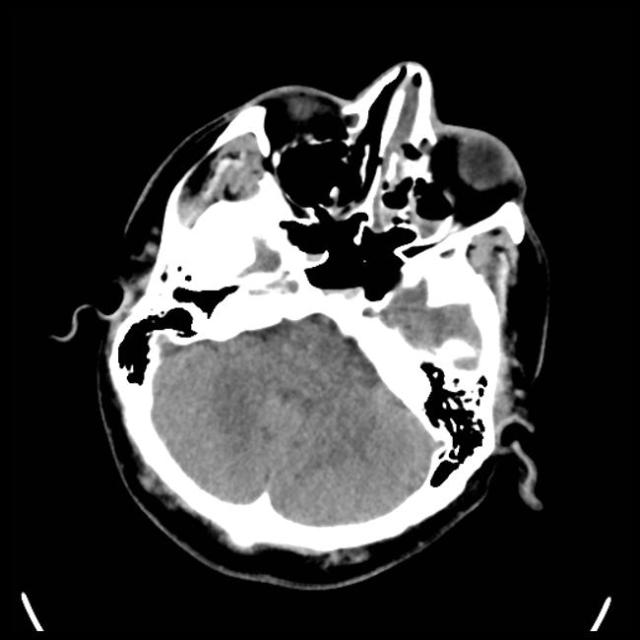lesion: (72, 58, 553, 591)
